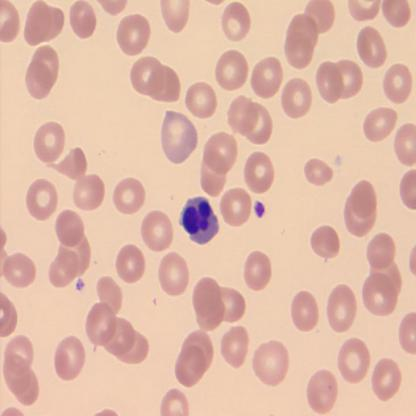NRC: (177, 194, 220, 245)
